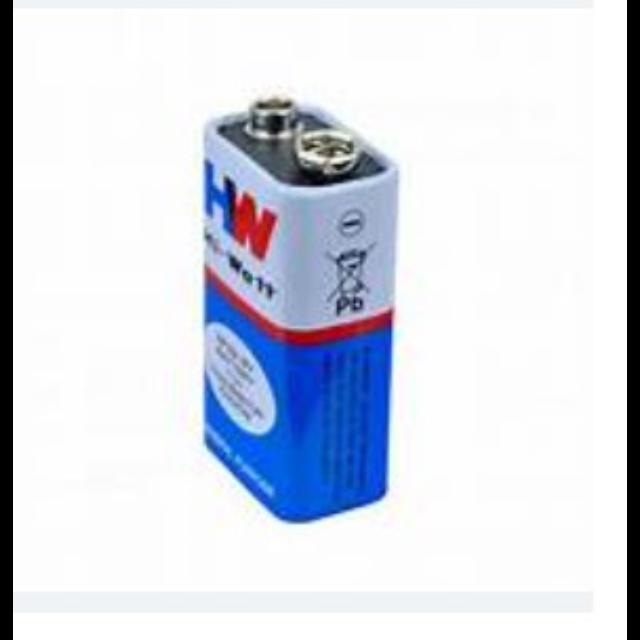Battery: (200, 97, 402, 526)
